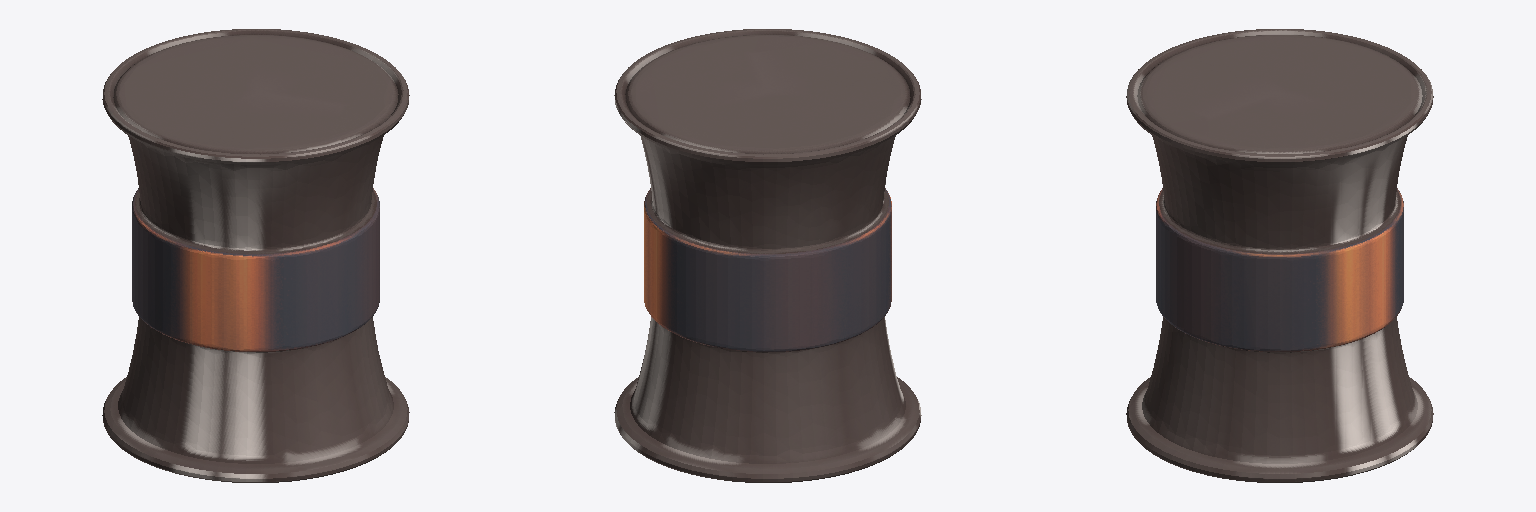
3 renders of one model, left to right at view 1: azimuth 30°, elevation 25°; view 2: azimuth 150°, elevation 25°; view 3: azimuth 270°, elevation 25°, orthographic.
Visible parts, largest first — view 1: solid_002, solid_001; view 2: solid_002, solid_001; view 3: solid_002, solid_001.
Part boxes in pixels (bbox=[...]): solid_002: bbox=[102, 29, 409, 482]; solid_001: bbox=[132, 188, 379, 351]; solid_002: bbox=[614, 29, 921, 482]; solid_001: bbox=[644, 188, 891, 351]; solid_002: bbox=[1126, 29, 1433, 482]; solid_001: bbox=[1156, 188, 1403, 351].
Bounding box in the file's own units: 1.19 × 1.4 × 1.19.
1 materials, 1 textured.